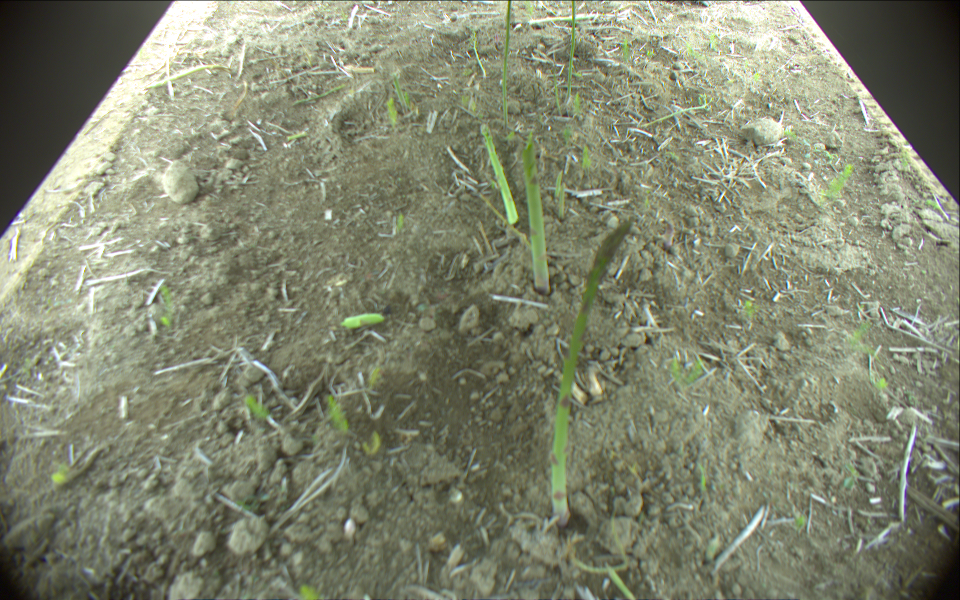aspa: (549, 218, 634, 530), (522, 137, 552, 294), (483, 127, 521, 224), (146, 63, 230, 90), (522, 11, 611, 27), (291, 82, 346, 106), (565, 1, 577, 108), (502, 1, 512, 128), (337, 312, 385, 328), (473, 29, 486, 79), (552, 54, 563, 111), (394, 76, 407, 114), (665, 222, 675, 248), (555, 168, 563, 199), (560, 183, 566, 219)
